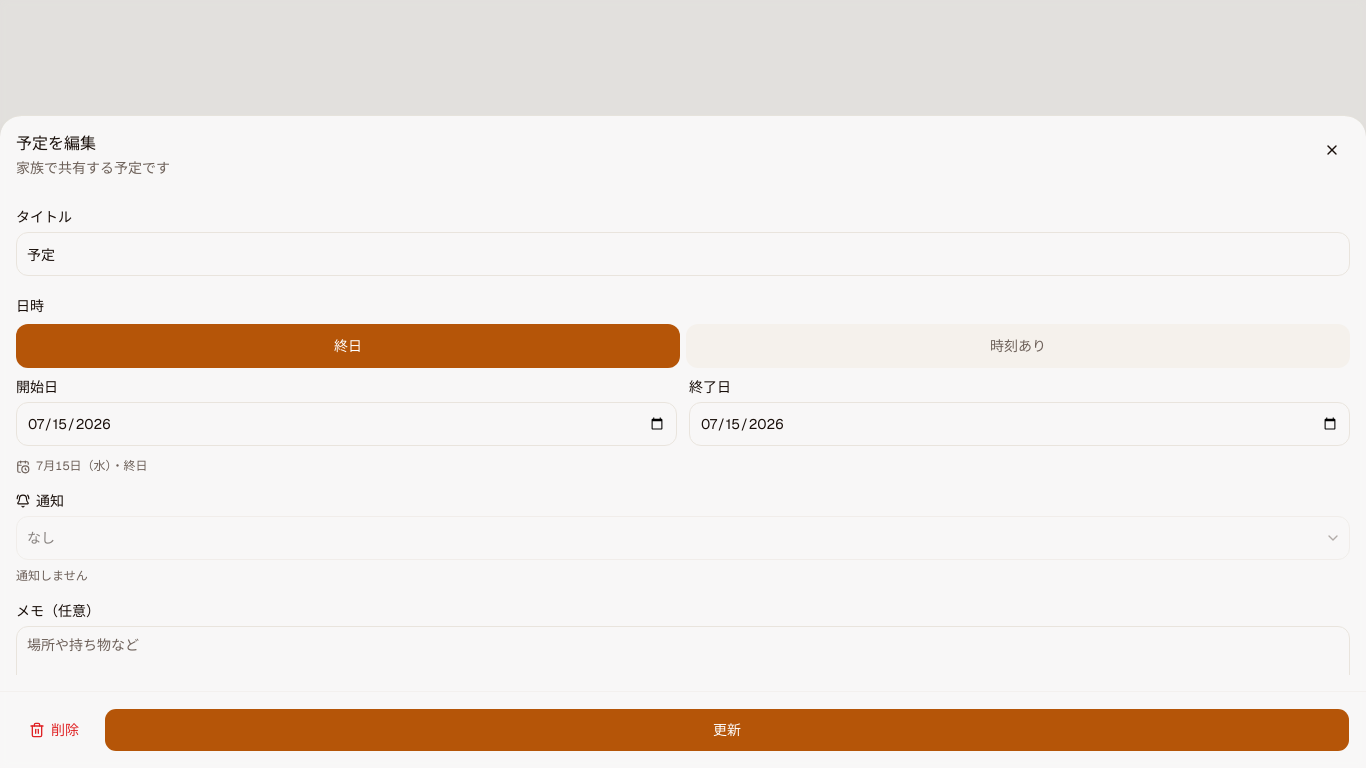
Test: CalendarEventFormSheet - 削除の確認（誤操作の防止） › キャンセルで確認を閉じ、何も消さずに編集へ戻る
This screenshot has width=1366, height=768.
Click the button "削除" at x=54, y=730, box [16, 708, 92, 752]
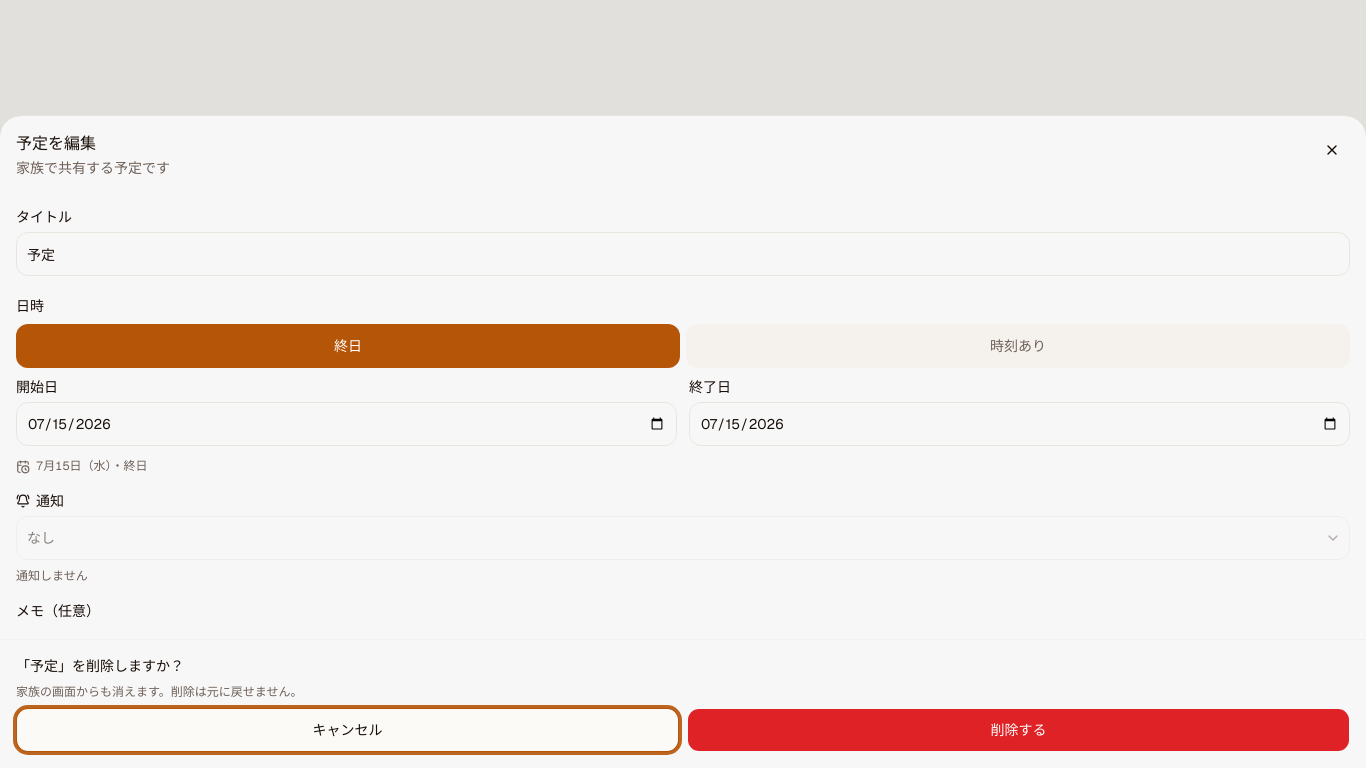
Click the button "キャンセル" at x=348, y=730, box [16, 708, 679, 752]
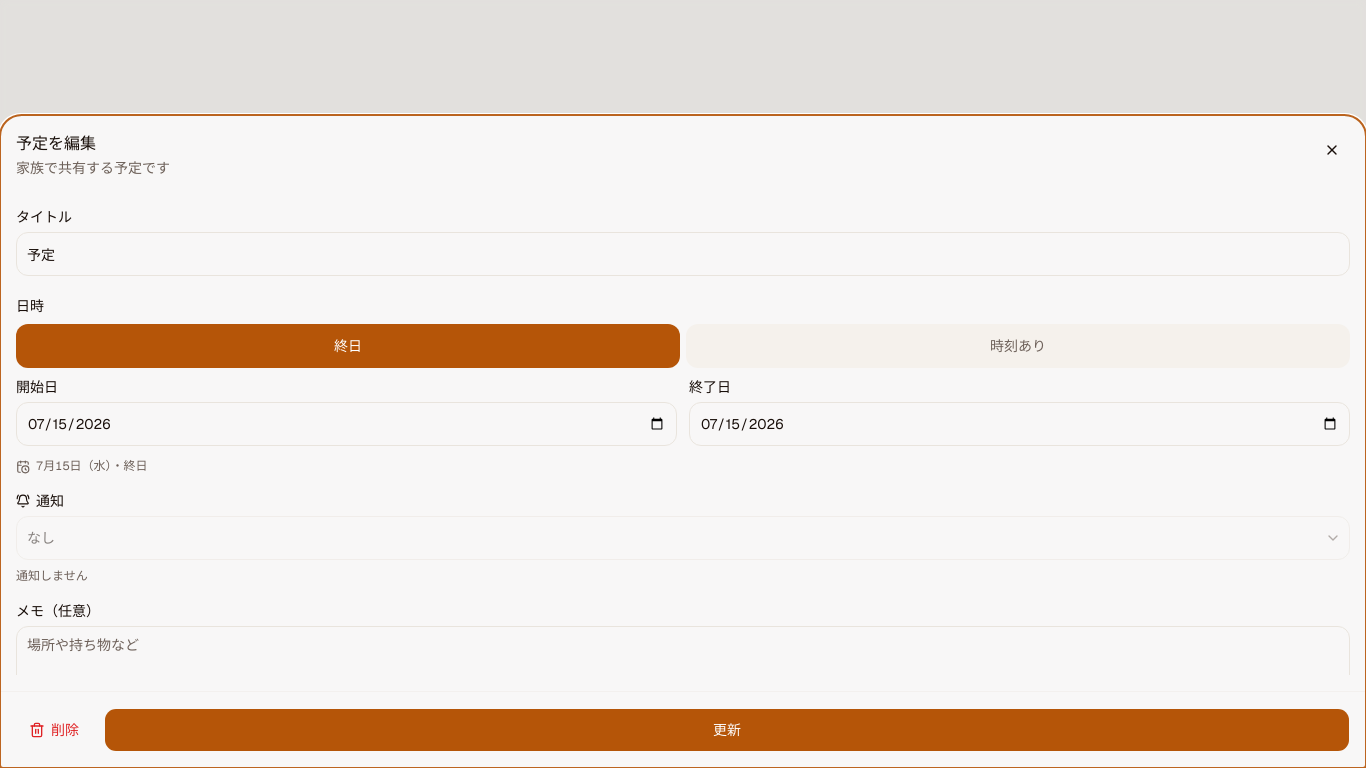
Now the button "更新" is shown, box [104, 708, 1350, 752]
